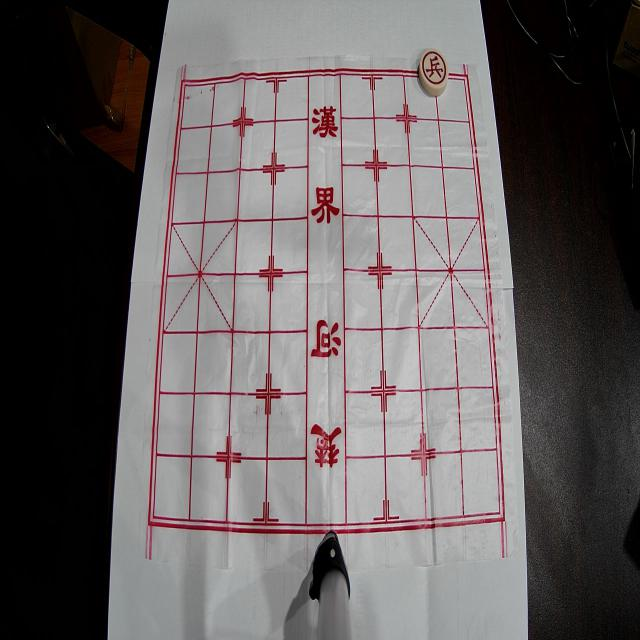red-soldier: (419, 48, 448, 96)
